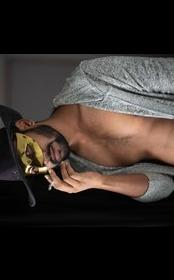Cigarette: (0, 53, 174, 197), (49, 180, 55, 188)
